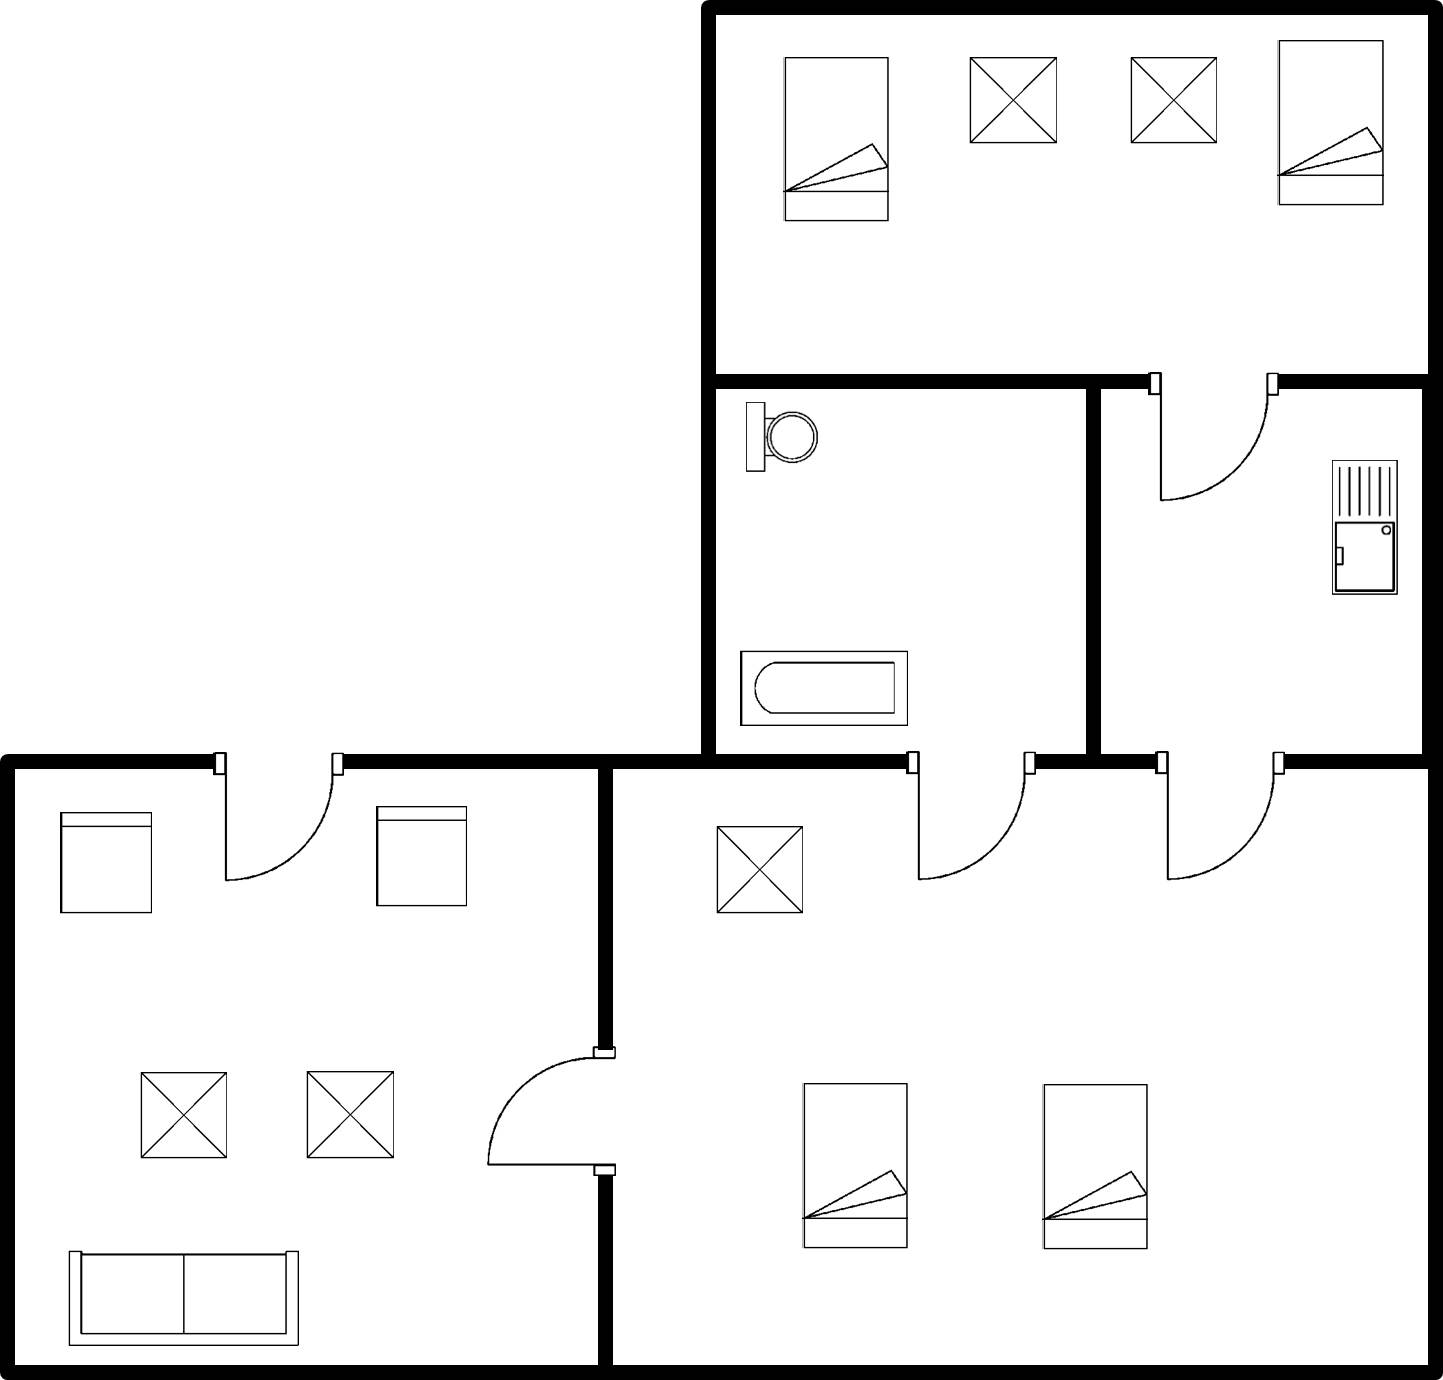bed: (793, 1073, 919, 1265), (769, 50, 901, 235), (1265, 28, 1393, 216), (1031, 1073, 1158, 1262)
coffee_table: (1115, 46, 1230, 153), (961, 45, 1066, 160), (296, 1061, 401, 1172), (132, 1062, 238, 1170), (707, 814, 809, 927)
large_sink: (734, 396, 827, 488)
large_sofa: (59, 1239, 312, 1354)
sink: (1324, 449, 1411, 601)
small_sofa: (48, 803, 162, 922), (366, 796, 478, 919)
tub: (731, 638, 920, 738)
